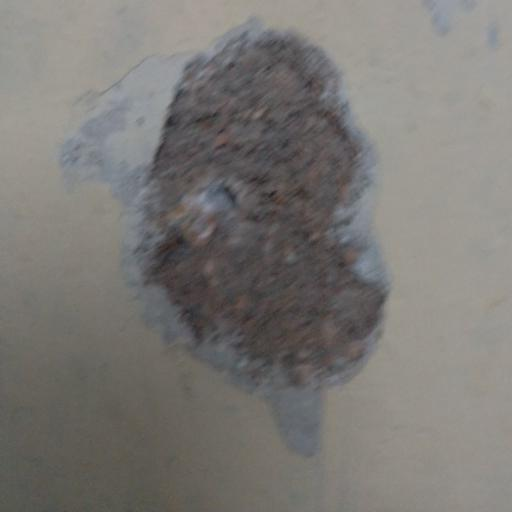spalling: (49, 14, 409, 477)
